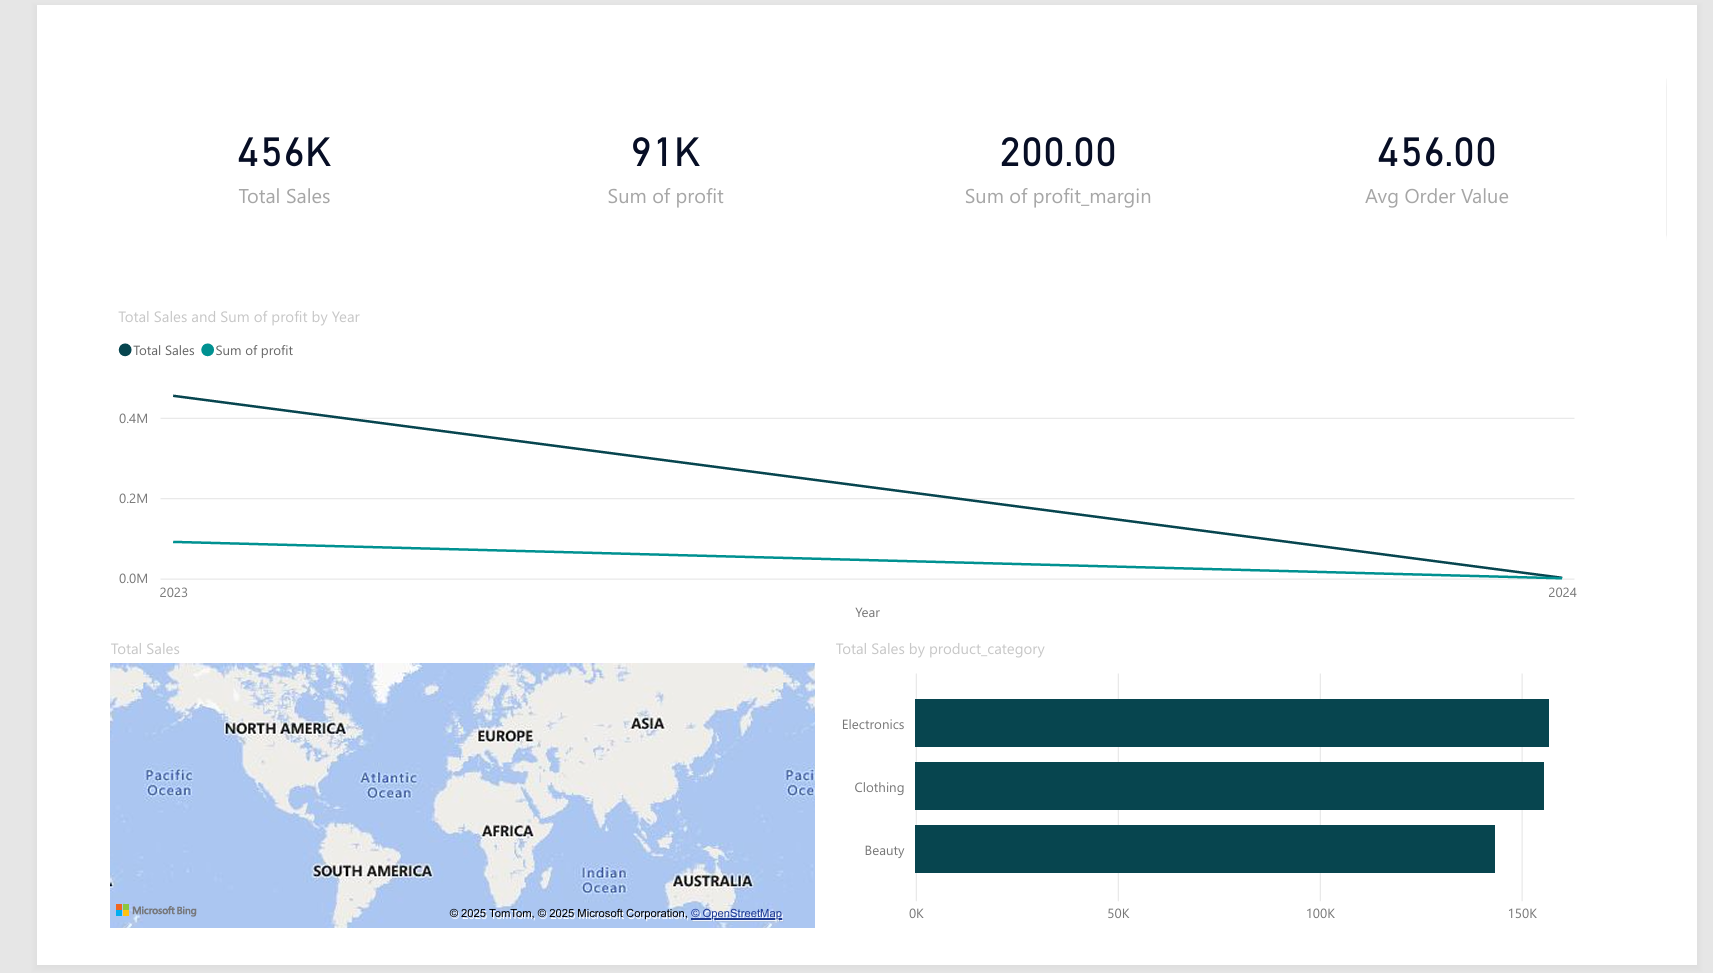

Layout of this report page (visuals, bound fields, positions):
{"tool":"powerbi","page":{"name":"Page 1","canvas":[1280,720],"ordinal":0},"visuals":[{"type":"card","fields":{"Values":["sales_clean.Total Sales"]},"box":[34.3,9.6,279.9,183.9],"z":0},{"type":"card","fields":{"Values":["Sum(sales_clean.profit_margin)"]},"box":[651.8,9.6,282.7,183.9],"z":1},{"type":"card","fields":{"Values":["Sum(sales_clean.profit)"]},"box":[337.6,9.6,282.7,183.9],"z":2},{"type":"card","fields":{"Values":["sales_clean.Avg Order Value"]},"box":[956.4,11,279.9,182.5],"z":3},{"type":"lineChart","fields":{"Category":["sales_clean.year_month.Variation.Date Hierarchy.Year","sales_clean.year_month.Variation.Date Hierarchy.Quarter","sales_clean.year_month.Variation.Date Hierarchy.Month","sales_clean.year_month.Variation.Date Hierarchy.Day"],"Y":["sales_clean.Total Sales","Sum(sales_clean.profit)"]},"box":[35.7,217.1,1177.7,255.8],"z":4},{"type":"barChart","fields":{"Category":["sales_clean.product_category"],"Y":["sales_clean.Total Sales"]},"box":[609.7,481.8,603.7,237.9],"z":5},{"type":"filledMap","box":[29.7,481.8,574,237.9],"z":6}]}

Visuals, with their boxes in screenshot pixels (x1, y1, x2, y2), scaled from the page's 1280x720 canvas onto the 1713x973 screenshot:
card - sales_clean.Total Sales: (left=46, top=13, right=420, bottom=261)
card - Sum(sales_clean.profit_margin): (left=872, top=13, right=1251, bottom=261)
card - Sum(sales_clean.profit): (left=452, top=13, right=830, bottom=261)
card - sales_clean.Avg Order Value: (left=1280, top=15, right=1655, bottom=261)
lineChart - sales_clean.year_month.Variation.Date Hierarchy.Year x sales_clean.year_month.Variation.Date Hierarchy.Quarter: (left=48, top=293, right=1624, bottom=639)
barChart - sales_clean.product_category x sales_clean.Total Sales: (left=816, top=651, right=1624, bottom=972)
filledMap: (left=40, top=651, right=808, bottom=972)
